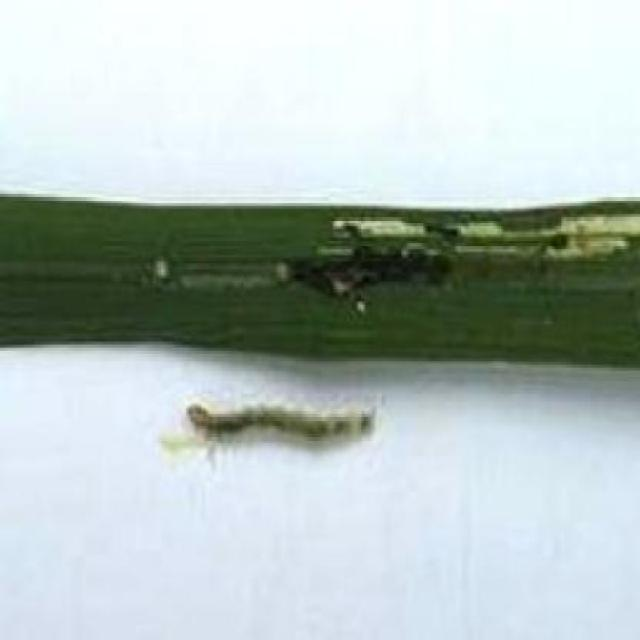leaf-folder: (165, 358, 372, 493)
